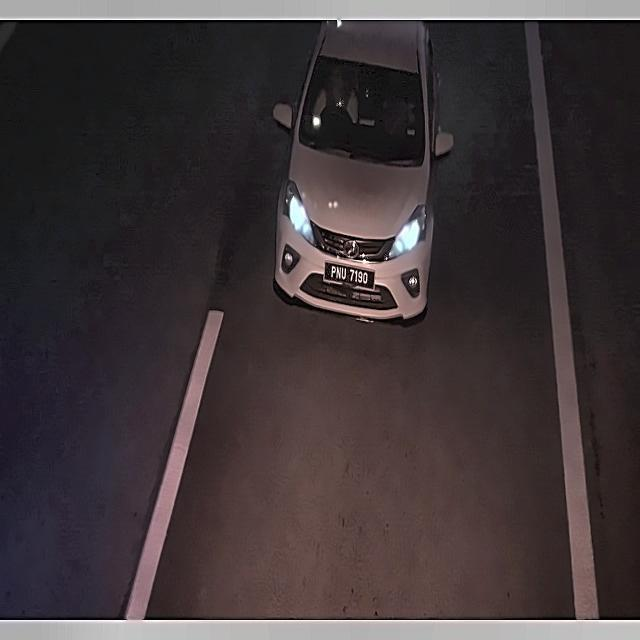car: (320, 256, 379, 298)
